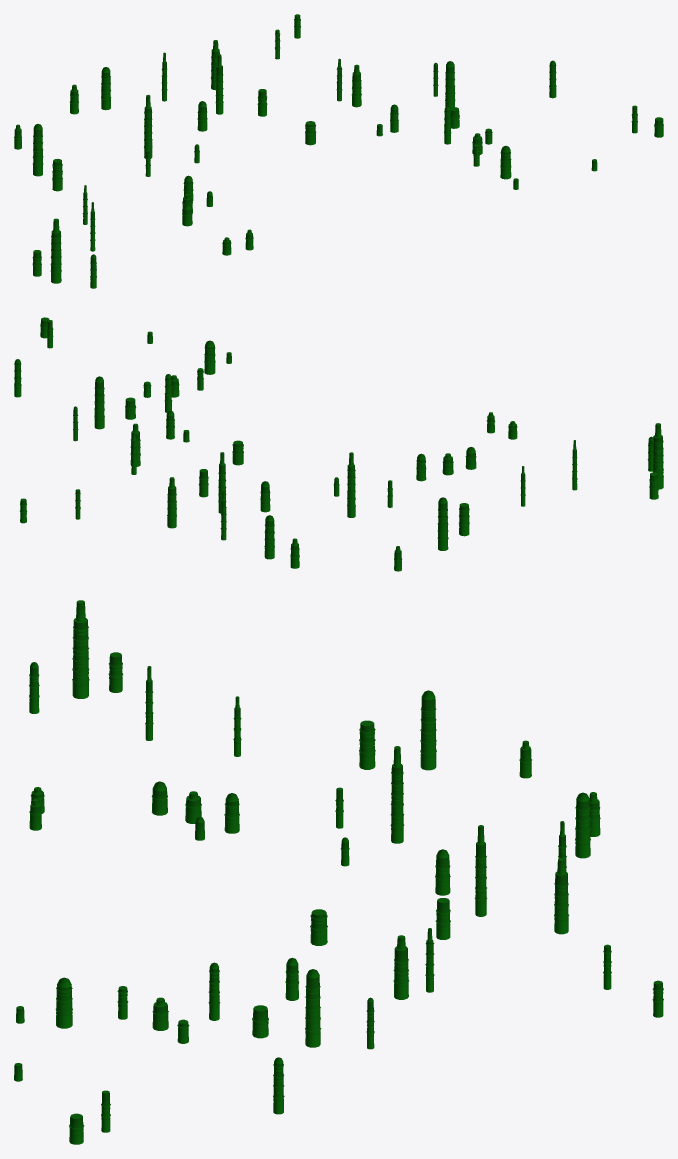
File: iskarra_far_towers.glb
The picture shows the model from 3 angles, top to bottom: view 1: azimuth 30°, elevation 25°; view 2: azimuth 150°, elevation 25°; view 3: azimuth 270°, elevation 25°; orthographic projection. The views are drawn at different scales.
Visible parts, largest first — view 1: iskarra_far_towers; view 2: iskarra_far_towers; view 3: iskarra_far_towers.
Boxes of the visible parts, bbox=[...] form: iskarra_far_towers: bbox=[14, 14, 663, 288]; iskarra_far_towers: bbox=[14, 317, 663, 571]; iskarra_far_towers: bbox=[14, 600, 663, 1144].
Size of what is drawn, in the model's own units: 936 by 89.54 by 562.
